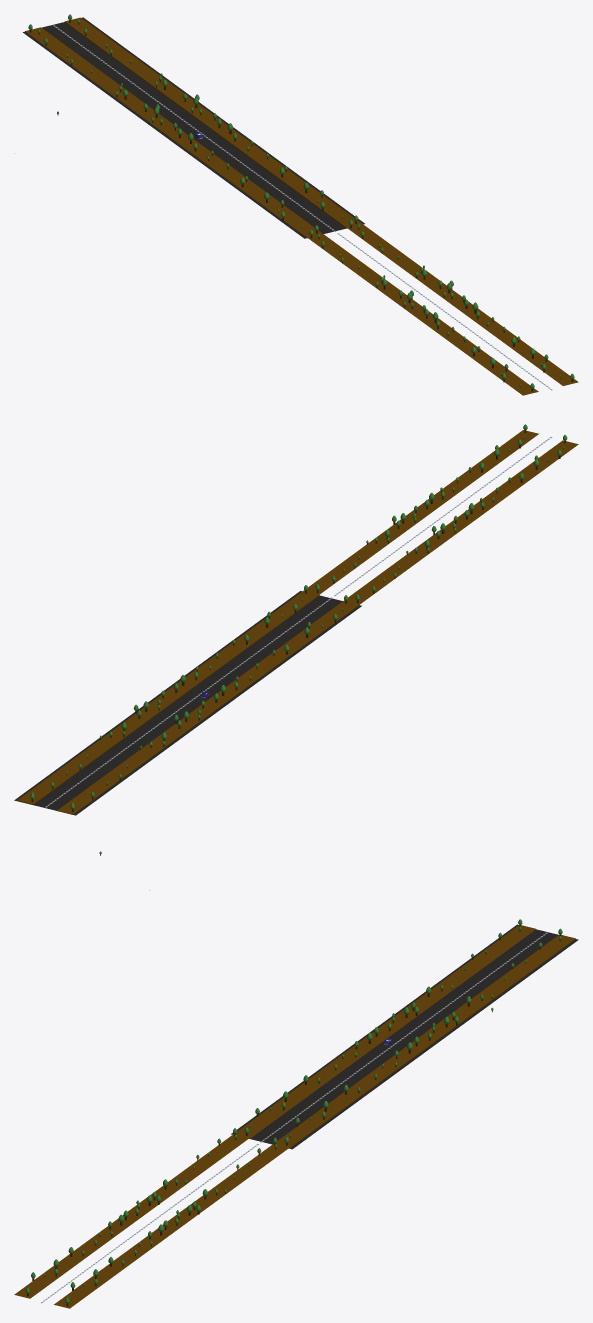
Rendered from car.glb.
The picture shows the model from 3 angles, top to bottom: view 1: azimuth 30°, elevation 25°; view 2: azimuth 150°, elevation 25°; view 3: azimuth 330°, elevation 25°; orthographic projection.
Parts seen in each view (by area): view 1: rShadow-大陆, 草坪2, 草坪, 草坪2.001, 草坪.001, 指示线; view 2: rShadow-大陆, 草坪, 草坪2, 草坪2.001, 草坪.001; view 3: rShadow-大陆, 草坪2, 草坪, 草坪2.001, 草坪.001, 指示线.
Boxes of the visible parts, x1,y1,x2,y2 form: rShadow-大陆: (23, 17, 364, 238); 草坪2: (66, 18, 362, 228); 草坪: (26, 28, 322, 238); 草坪2.001: (347, 224, 578, 385); 草坪.001: (308, 234, 538, 395); 指示线: (53, 25, 336, 231); rShadow-大陆: (14, 591, 361, 815); 草坪: (58, 600, 360, 813); 草坪2: (18, 590, 319, 803); 草坪2.001: (304, 430, 538, 593); 草坪.001: (347, 440, 578, 603); rShadow-大陆: (231, 924, 578, 1149); 草坪2: (273, 935, 574, 1147); 草坪: (233, 925, 534, 1138); 草坪2.001: (54, 1144, 288, 1308); 草坪.001: (14, 1135, 247, 1298); 指示线: (260, 932, 547, 1142).
Size of the model in its own units: 62.22 by 57.85 by 529.
